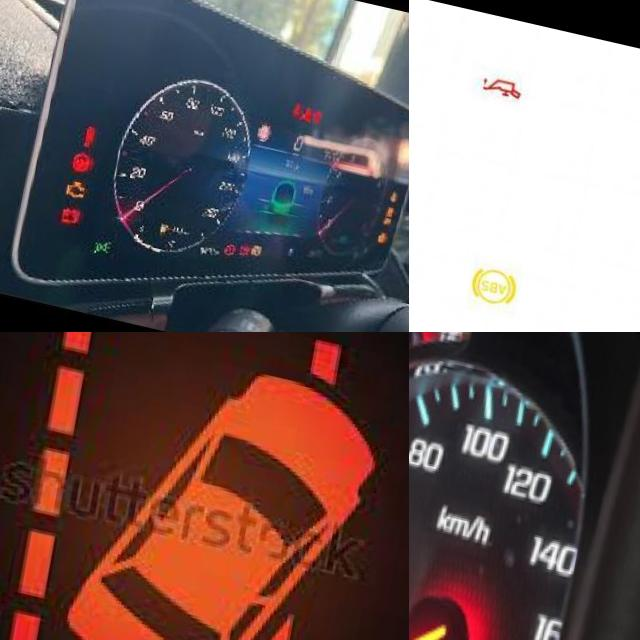Seat Belt: (302, 83, 312, 99)
